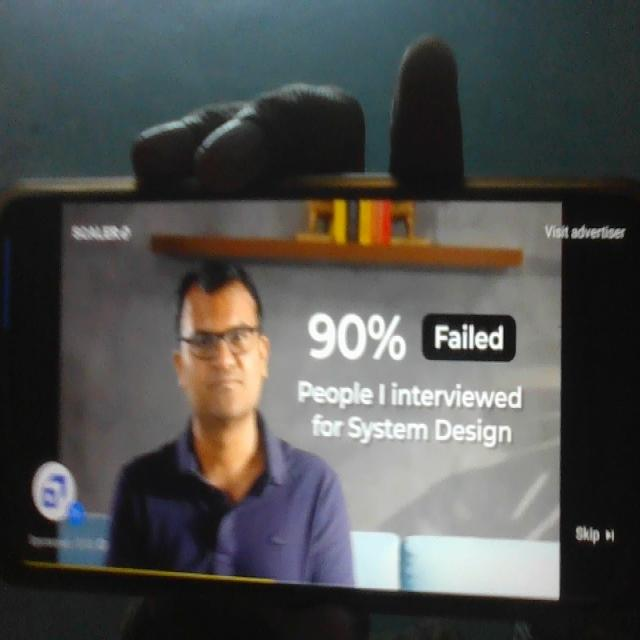fake: (166, 233, 282, 452)
